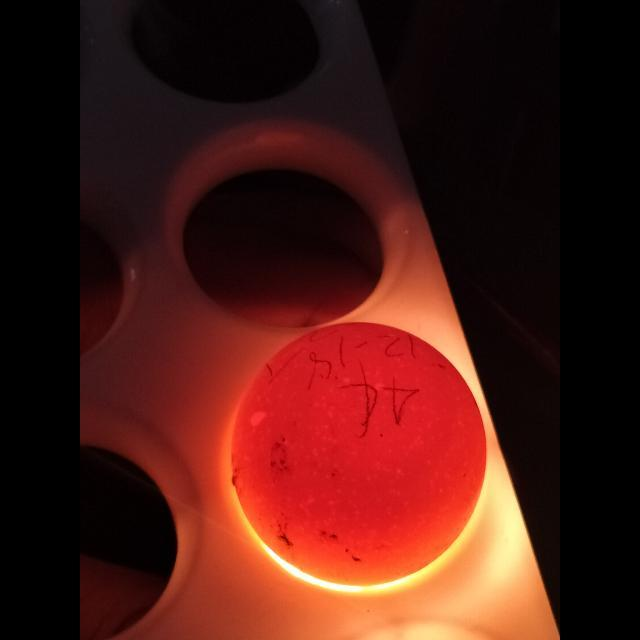Infertile: (234, 322, 484, 586)
